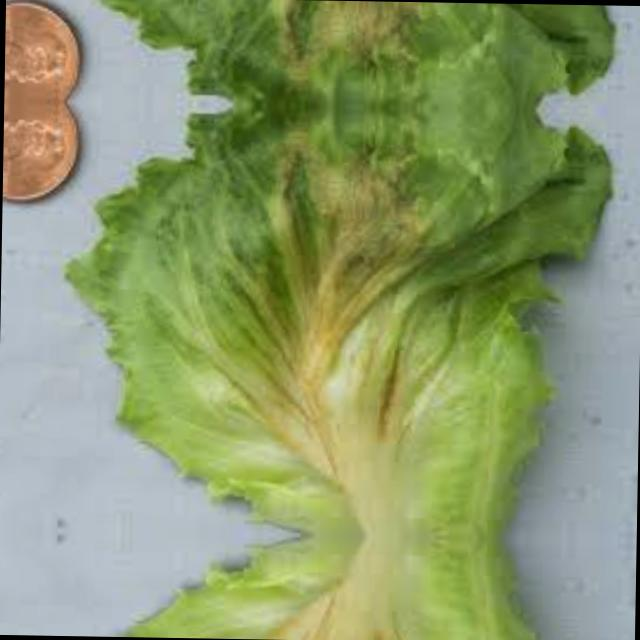Lettuce - Anthracnose: (88, 101, 602, 540), (94, 0, 604, 110), (85, 531, 595, 640)
